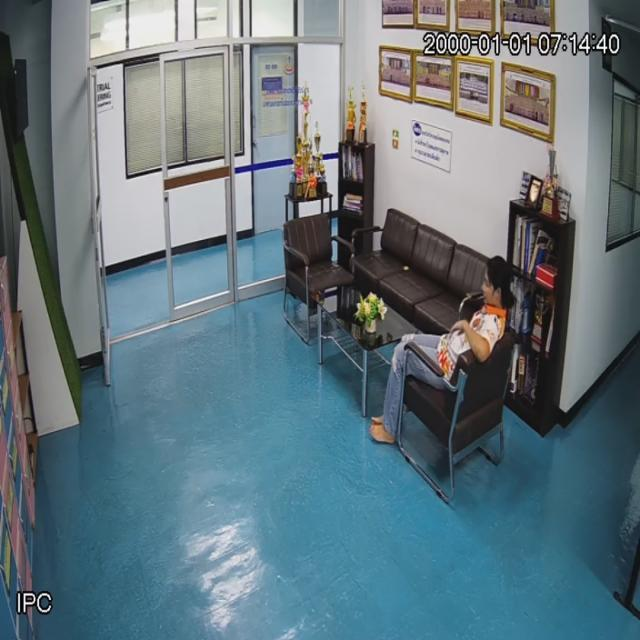normal: (373, 257, 509, 441)
